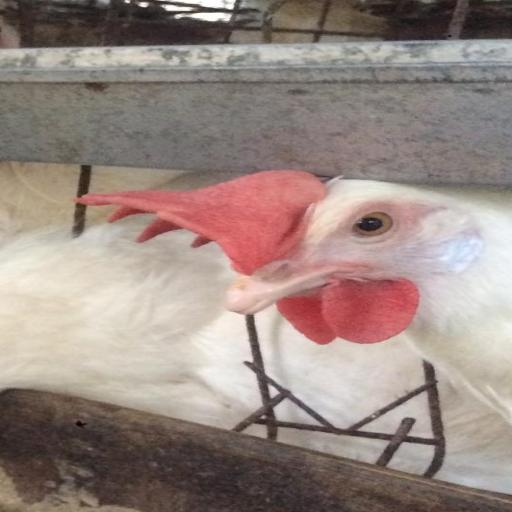healthy: (135, 162, 476, 347)
